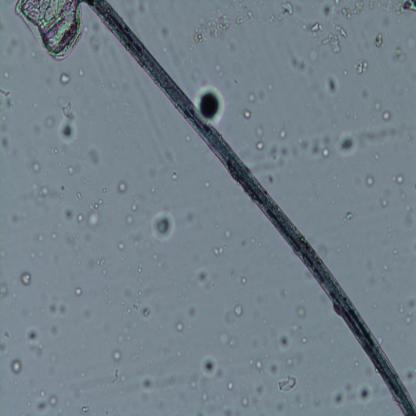Background material: (15, 0, 86, 64), (268, 132, 331, 160), (194, 83, 226, 126), (193, 11, 229, 45), (358, 118, 396, 142), (150, 211, 176, 243), (367, 0, 416, 12), (336, 132, 359, 157), (119, 291, 141, 317), (193, 266, 214, 292), (58, 117, 78, 144), (270, 2, 295, 23), (276, 373, 299, 394), (198, 352, 218, 376), (341, 1, 365, 20), (321, 32, 341, 54), (46, 299, 69, 318), (356, 382, 374, 405), (220, 330, 240, 350), (66, 229, 82, 254), (89, 22, 101, 52), (325, 74, 340, 97), (253, 123, 265, 151), (0, 86, 14, 110), (236, 9, 254, 27), (27, 325, 41, 348), (116, 325, 132, 345), (277, 332, 292, 353), (355, 57, 371, 76), (87, 146, 102, 166), (332, 385, 344, 409), (61, 103, 79, 119), (88, 205, 100, 229), (290, 56, 308, 72), (321, 4, 337, 22), (286, 353, 304, 368), (372, 29, 384, 50), (9, 358, 23, 376), (186, 304, 200, 322), (234, 231, 249, 247), (305, 45, 318, 63), (268, 360, 281, 378), (134, 1, 149, 16), (391, 171, 406, 186), (333, 23, 347, 39), (37, 182, 50, 199), (212, 61, 224, 79), (97, 256, 107, 277), (20, 272, 33, 288), (395, 47, 408, 63), (110, 348, 123, 363), (141, 376, 154, 391), (64, 205, 75, 222), (10, 211, 22, 226), (232, 303, 244, 318), (342, 209, 354, 224), (58, 72, 71, 85), (364, 173, 376, 187), (213, 244, 225, 258), (404, 368, 416, 382), (44, 116, 56, 130), (116, 180, 128, 194), (152, 253, 162, 269), (74, 284, 84, 300), (111, 367, 119, 387), (183, 212, 196, 224), (312, 21, 325, 33), (404, 310, 415, 324), (50, 324, 61, 338), (48, 394, 59, 408), (290, 320, 300, 335), (160, 26, 170, 41), (382, 108, 392, 123), (0, 280, 7, 301), (404, 298, 416, 310), (379, 195, 389, 209), (254, 383, 264, 397), (278, 126, 288, 140), (35, 400, 47, 411), (124, 213, 134, 226), (254, 358, 263, 372), (223, 226, 232, 240), (76, 66, 86, 78), (76, 212, 86, 224), (247, 91, 256, 104), (226, 379, 235, 392), (114, 241, 127, 250), (266, 172, 274, 186), (240, 397, 250, 408), (277, 287, 288, 297), (94, 199, 104, 210), (0, 136, 9, 148), (142, 306, 151, 318), (31, 161, 40, 173), (0, 247, 7, 262), (242, 109, 252, 119), (175, 321, 184, 332), (0, 340, 7, 354), (263, 84, 275, 92), (373, 150, 381, 162), (130, 202, 139, 212), (80, 404, 89, 414), (398, 190, 407, 200), (398, 303, 406, 314), (298, 306, 306, 317), (67, 164, 75, 175), (137, 261, 143, 275), (37, 233, 44, 245), (38, 389, 46, 399), (172, 172, 180, 182), (353, 360, 361, 370), (300, 335, 308, 345), (189, 382, 197, 391), (374, 101, 380, 113), (4, 69, 10, 81), (149, 185, 156, 195), (201, 392, 208, 402), (29, 251, 36, 260), (37, 249, 44, 258), (52, 146, 58, 156), (76, 191, 82, 201), (4, 330, 10, 339), (52, 231, 58, 240), (248, 358, 254, 366), (204, 180, 210, 188), (186, 134, 191, 143), (242, 276, 247, 284), (102, 188, 107, 193)
Microfibre: (85, 1, 416, 415)
